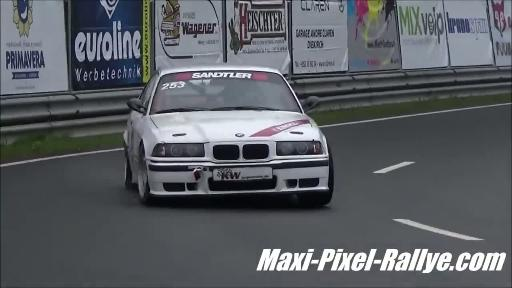CAR: (104, 39, 350, 213)
